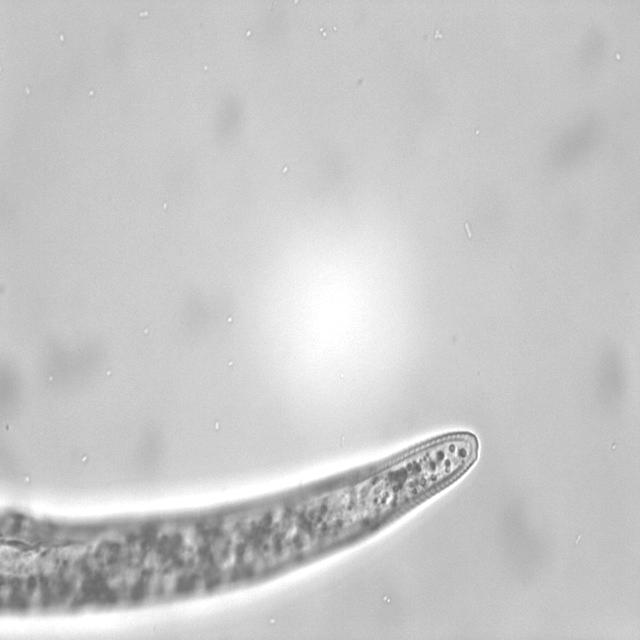Pratylenchus: (360, 420, 495, 559)
